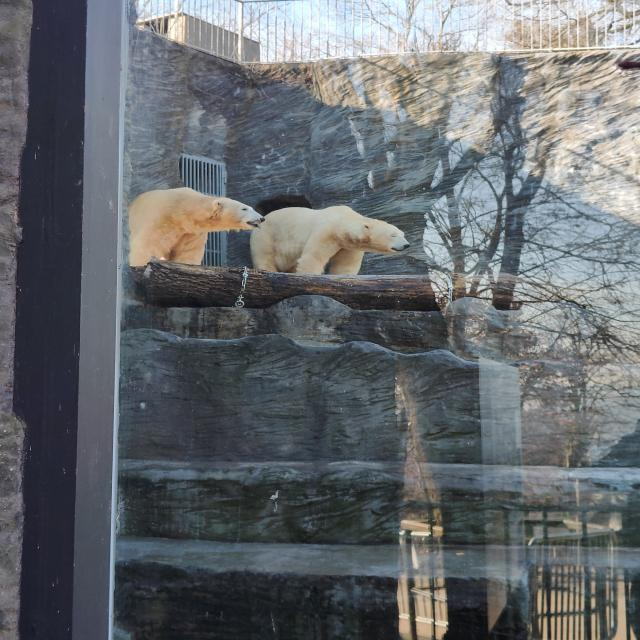bear: (250, 205, 410, 275), (129, 187, 265, 267)
